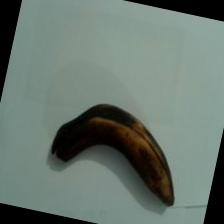Banana Rotten: (44, 93, 202, 207)
